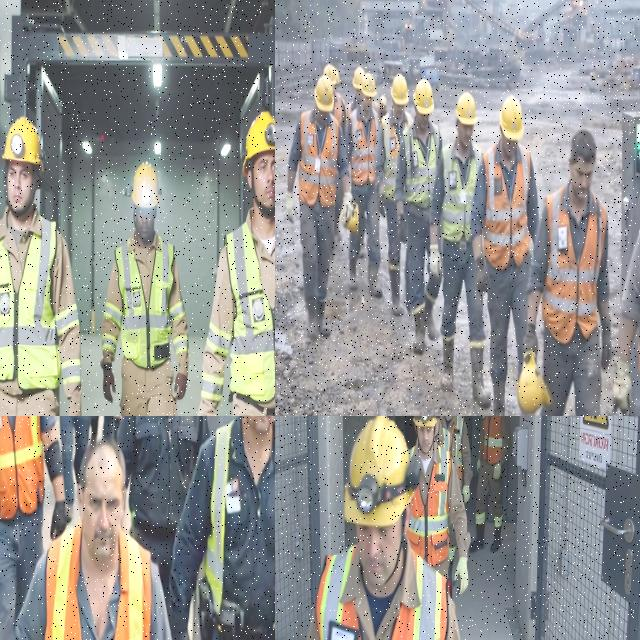Vest: (542, 185, 606, 344), (0, 218, 59, 389), (225, 223, 274, 402), (115, 237, 173, 368), (483, 142, 530, 269), (203, 421, 233, 613), (406, 446, 450, 565), (0, 416, 43, 519), (45, 524, 81, 639), (316, 547, 361, 639), (441, 143, 481, 242), (298, 110, 338, 207), (403, 124, 439, 209), (348, 109, 376, 185), (381, 113, 398, 201), (442, 416, 463, 484), (482, 416, 501, 464), (638, 332, 639, 373)
Worker: (307, 416, 459, 639), (13, 440, 170, 639), (523, 130, 611, 415), (0, 117, 80, 415), (197, 111, 274, 415), (170, 416, 274, 639), (100, 163, 187, 415), (470, 96, 538, 415), (430, 92, 490, 408), (117, 416, 208, 612), (285, 76, 352, 340), (0, 416, 66, 639), (395, 79, 441, 355), (407, 416, 469, 594), (375, 74, 412, 315), (345, 73, 381, 298), (470, 416, 509, 551), (612, 232, 639, 411), (59, 416, 91, 516), (440, 416, 471, 503), (323, 64, 346, 131), (102, 416, 113, 438), (114, 416, 120, 438)
helmet: (344, 416, 419, 526), (2, 117, 42, 171), (517, 351, 551, 413), (242, 111, 274, 175), (131, 162, 159, 207), (499, 96, 523, 141), (413, 79, 433, 115), (455, 92, 476, 125), (314, 76, 333, 112), (390, 74, 407, 105), (345, 203, 358, 233), (361, 73, 376, 98), (352, 67, 364, 90), (413, 416, 436, 427), (323, 64, 335, 85), (437, 416, 441, 418)
